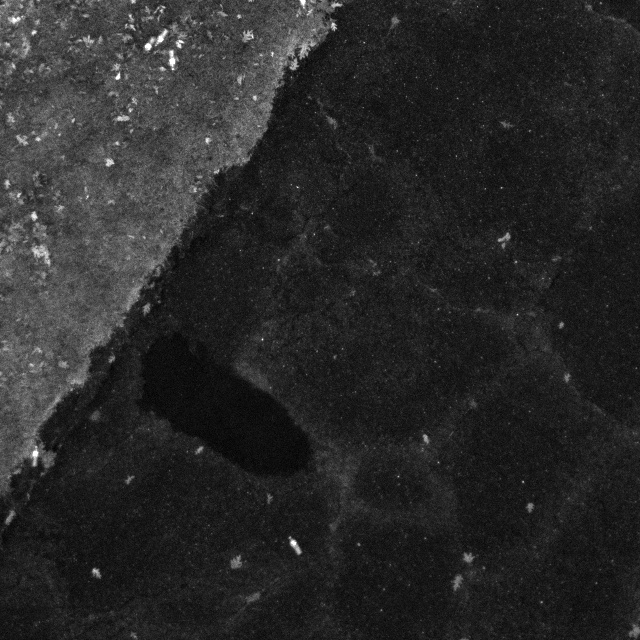bottle: (285, 534, 306, 558), (150, 27, 171, 50), (141, 35, 158, 54), (164, 49, 177, 72)
